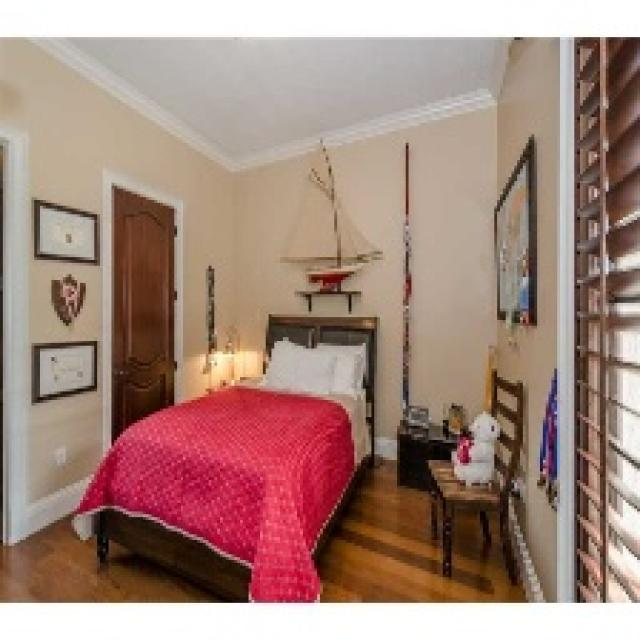Bed: (72, 311, 377, 600)
